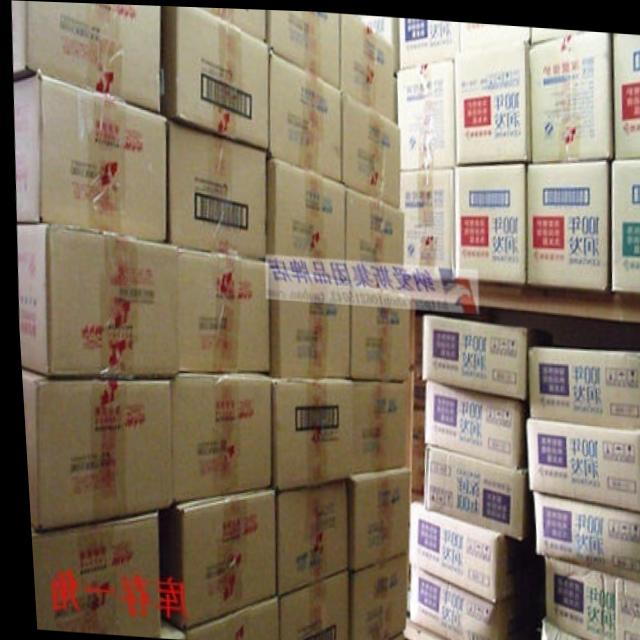box: (12, 71, 165, 244), (14, 221, 174, 379), (17, 365, 168, 530), (11, 0, 162, 110), (24, 509, 153, 637), (159, 484, 269, 628), (159, 5, 268, 147), (165, 118, 264, 261), (165, 369, 265, 502), (174, 245, 266, 371), (520, 412, 640, 508), (529, 26, 611, 159), (523, 155, 606, 286), (527, 485, 640, 581), (402, 498, 507, 599), (418, 441, 522, 539), (262, 154, 345, 276), (265, 45, 340, 177), (264, 375, 348, 491), (524, 341, 640, 424), (265, 261, 347, 377), (452, 36, 528, 161), (449, 158, 525, 281), (417, 376, 520, 466), (417, 310, 523, 395), (537, 553, 640, 640), (401, 559, 509, 640), (268, 477, 340, 593), (337, 83, 398, 205), (338, 462, 404, 570), (338, 462, 403, 569), (338, 10, 398, 118), (396, 55, 453, 166), (343, 183, 403, 288), (395, 166, 451, 278), (346, 278, 407, 379), (266, 8, 340, 85), (340, 551, 402, 640), (347, 377, 405, 472), (269, 565, 340, 640), (608, 152, 640, 288), (177, 593, 269, 640), (613, 28, 640, 152), (397, 14, 460, 64), (201, 6, 266, 40), (461, 18, 530, 49), (533, 610, 586, 640), (357, 11, 398, 41), (531, 23, 578, 40), (375, 629, 397, 640)
